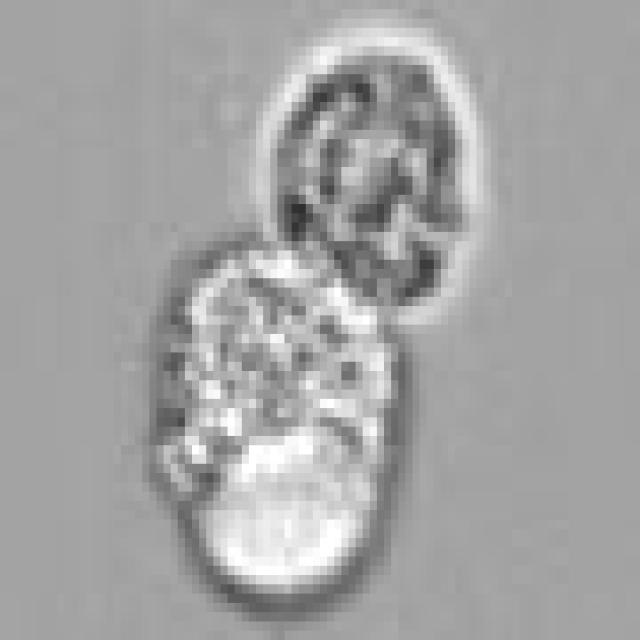Cancer Cell: (157, 232, 406, 603)
WBC: (278, 37, 477, 315)
